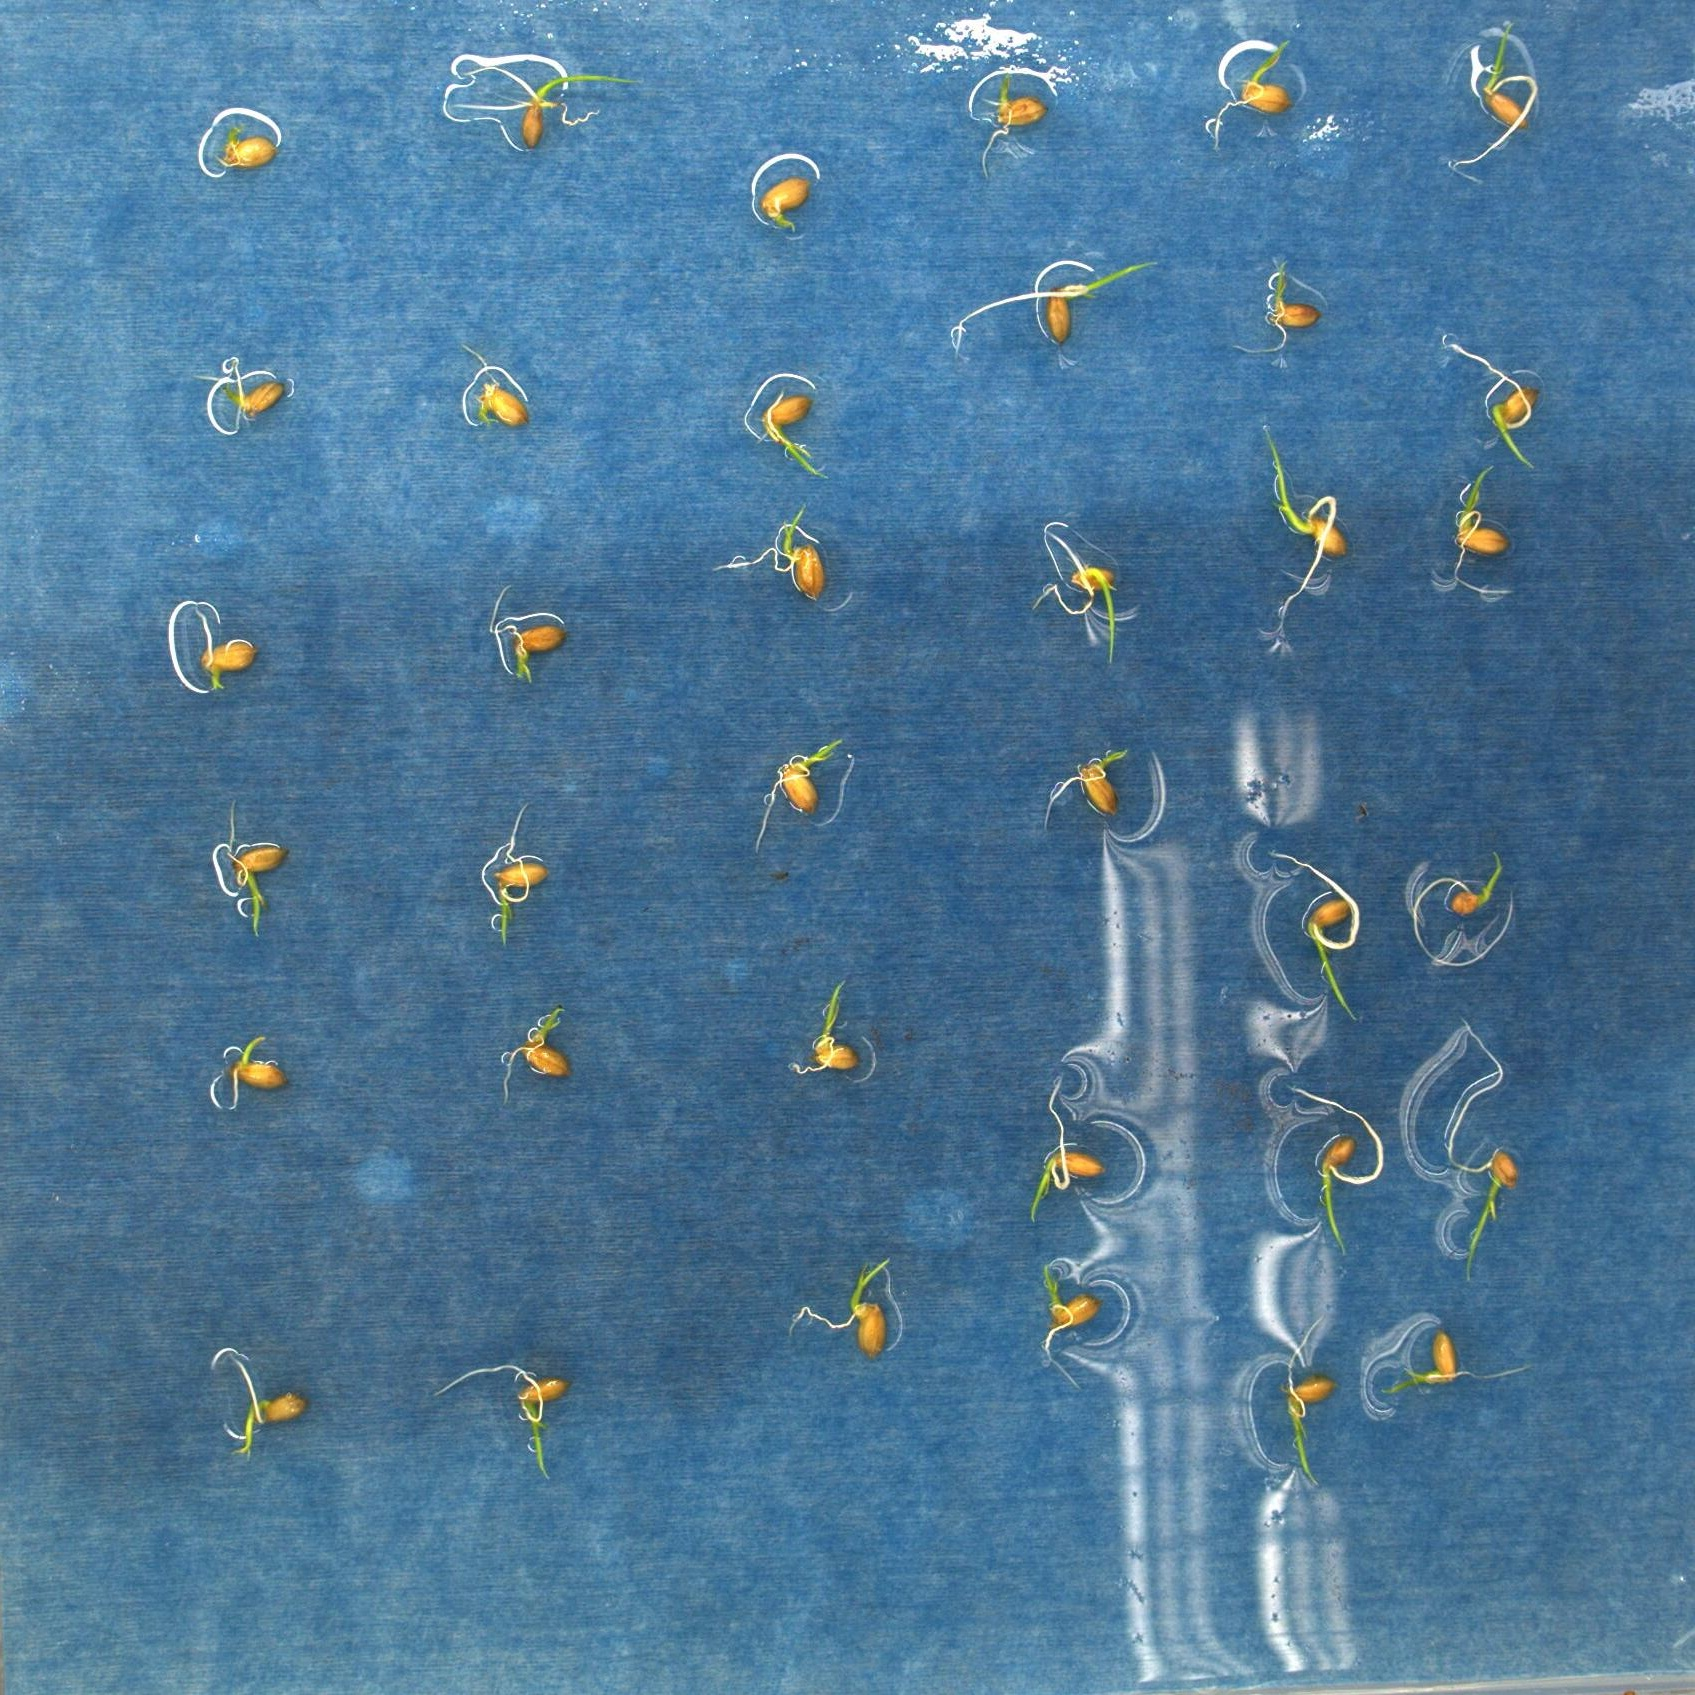not sprout: (976, 82, 1049, 175), (189, 602, 255, 692), (219, 127, 275, 168)
sprout: (1444, 1020, 1516, 1282), (953, 261, 1166, 349), (1259, 422, 1347, 613), (1445, 19, 1537, 192), (1270, 849, 1360, 1024), (1288, 1087, 1381, 1256), (436, 1363, 567, 1482), (461, 76, 646, 147), (1444, 335, 1537, 470), (1034, 518, 1116, 667), (1023, 1077, 1104, 1222), (709, 508, 826, 605), (785, 1256, 896, 1358), (1416, 847, 1513, 962), (1274, 1316, 1338, 1485), (751, 736, 846, 847), (1434, 463, 1510, 598), (219, 799, 289, 939), (1215, 39, 1291, 155), (1231, 258, 1322, 354), (487, 804, 548, 947), (227, 1349, 307, 1456), (1377, 1333, 1526, 1385), (1038, 745, 1128, 829), (487, 587, 565, 681), (1038, 1262, 1094, 1388), (787, 979, 858, 1076), (194, 359, 282, 433), (761, 390, 832, 481), (500, 1007, 567, 1104), (458, 341, 528, 430), (222, 1035, 289, 1114), (761, 175, 812, 237)
